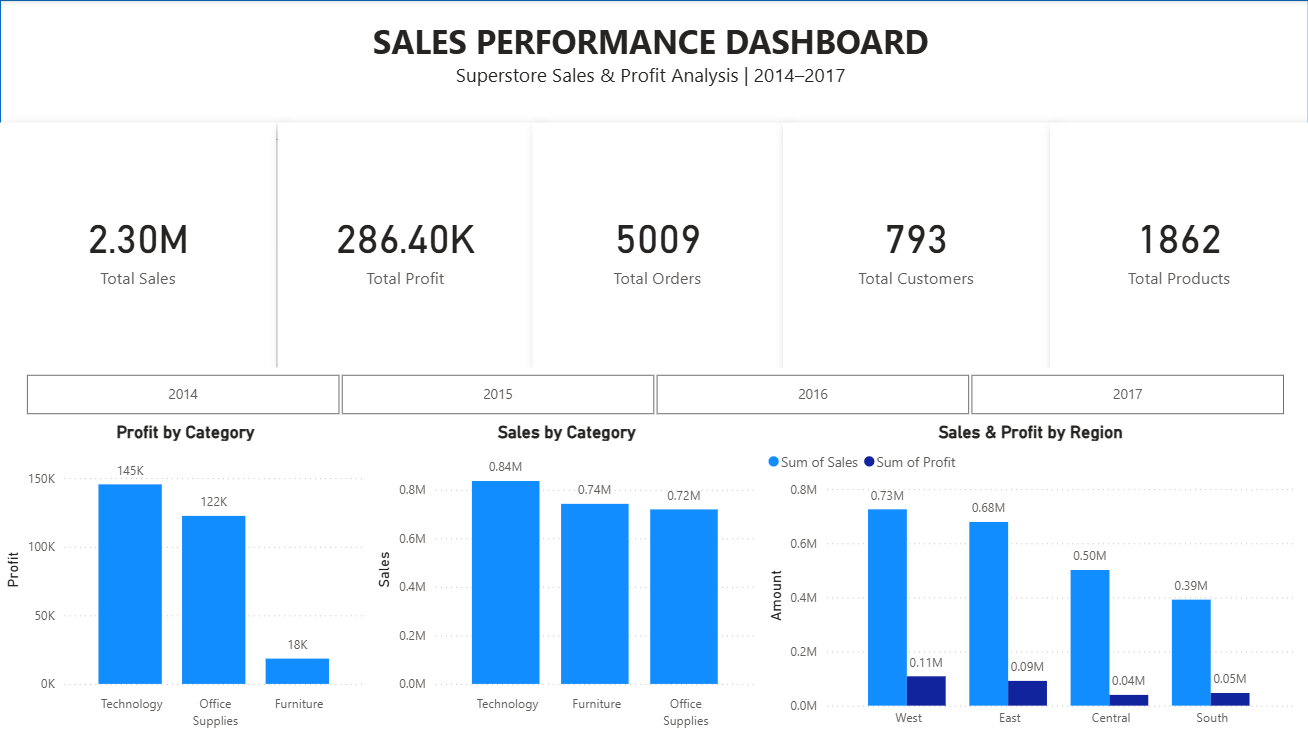

The page's visual inventory and layout, read from the dashboard file:
{"tool":"powerbi","page":{"name":"Page 1","canvas":[1280,720],"ordinal":0},"visuals":[{"type":"shape","box":[0,0,1280.3,137],"z":0},{"type":"clusteredColumnChart","title":"Sales & Profit by Region","fields":{"Category":["Sample - Superstore.Region"],"Y":["Sum(Sample - Superstore.Sales)","Sum(Sample - Superstore.Profit)"]},"box":[745.9,412.1,524.6,308.2],"z":1000},{"type":"columnChart","title":"Profit by Category","fields":{"Category":["Sample - Superstore.Category"],"Y":["Sum(Sample - Superstore.Profit)"]},"box":[0,412.1,363.2,308.2],"z":2000},{"type":"columnChart","title":"Sales by Category","fields":{"Category":["Sample - Superstore.Category"],"Y":["Sum(Sample - Superstore.Sales)"]},"box":[363.2,412.1,382.7,308.2],"z":3000},{"type":"card","fields":{"Values":["Sample - Superstore.Total Sales"]},"box":[0,119.8,270.2,243.3],"z":4000},{"type":"card","fields":{"Values":["Sample - Superstore.Total Profit"]},"box":[271.5,119.8,250.7,243.3],"z":5000},{"type":"card","fields":{"Values":["Sample - Superstore.Total Orders"]},"box":[520.9,119.8,244.6,243.3],"z":6000},{"type":"card","fields":{"Values":["Sample - Superstore.Total Customers"]},"box":[765.5,119.8,261.7,243.3],"z":7000},{"type":"card","fields":{"Values":["Sample - Superstore.Total Products"]},"box":[1027.2,119.8,253.1,243.3],"z":8000},{"type":"textbox","box":[13.5,13.5,1246.1,106.4],"z":9000},{"type":"slicer","fields":{"Values":["Sample - Superstore.Year"]},"box":[0,359.5,1280.3,52.6],"z":9001}]}

Visuals, with their boxes in screenshot pixels (x1, y1, x2, y2), scaled from the page's 1280x720 canvas onto the 1308x735 screenshot:
shape: region(0, 0, 1307, 140)
"Sales & Profit by Region" clusteredColumnChart: region(762, 421, 1298, 734)
"Profit by Category" columnChart: region(0, 421, 371, 734)
"Sales by Category" columnChart: region(371, 421, 762, 734)
card - Sample - Superstore.Total Sales: region(0, 122, 276, 371)
card - Sample - Superstore.Total Profit: region(277, 122, 534, 371)
card - Sample - Superstore.Total Orders: region(532, 122, 782, 371)
card - Sample - Superstore.Total Customers: region(782, 122, 1050, 371)
card - Sample - Superstore.Total Products: region(1050, 122, 1307, 371)
textbox: region(14, 14, 1287, 122)
slicer - Sample - Superstore.Year: region(0, 367, 1307, 421)
